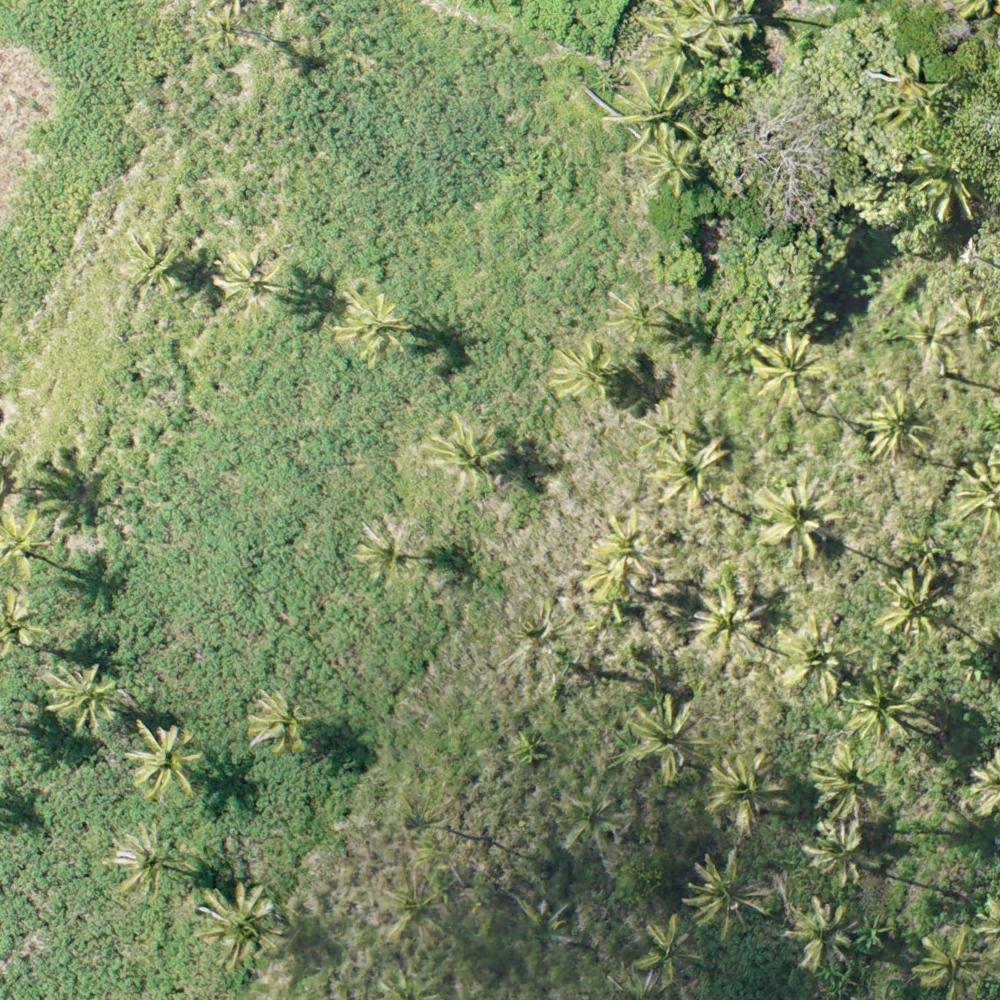Palm: (756, 471, 835, 563), (607, 64, 697, 143), (846, 669, 931, 751), (426, 412, 514, 491), (200, 885, 280, 968), (752, 332, 831, 412), (781, 622, 857, 704), (698, 581, 775, 661), (711, 752, 787, 833), (123, 722, 202, 799), (691, 851, 766, 932), (881, 571, 962, 646), (631, 695, 703, 777), (331, 293, 414, 364), (108, 822, 184, 898), (913, 150, 981, 230), (42, 663, 121, 730), (865, 395, 938, 464), (558, 782, 630, 850), (242, 690, 310, 760), (790, 899, 855, 971), (557, 342, 625, 410), (814, 745, 880, 815), (807, 818, 870, 891), (919, 928, 986, 994), (216, 252, 284, 314), (362, 519, 422, 588), (637, 914, 701, 978), (122, 239, 192, 297), (903, 307, 959, 375), (680, 4, 754, 54), (639, 139, 704, 193), (602, 290, 668, 341), (953, 292, 1000, 351)
